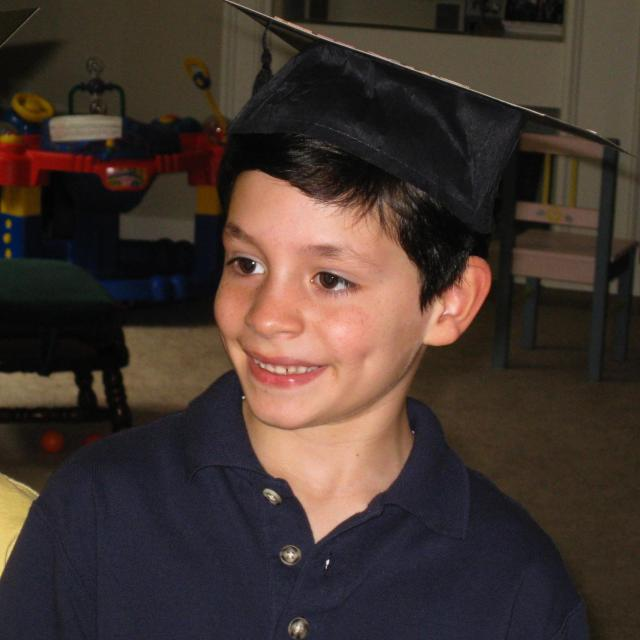no-glass: (226, 254, 363, 294)
